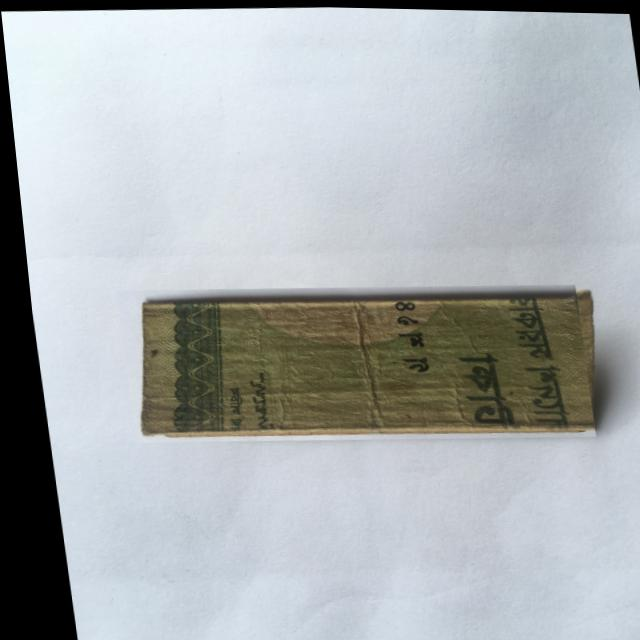Taka: (108, 273, 588, 450)
